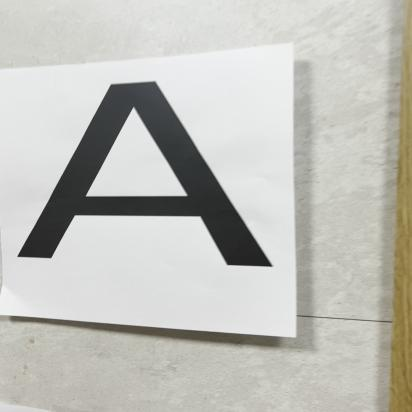seat: (17, 79, 276, 277)
